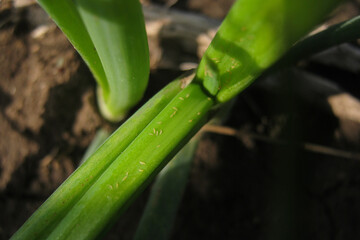Thrips: (112, 158, 150, 190), (146, 119, 170, 148), (175, 86, 198, 106)
